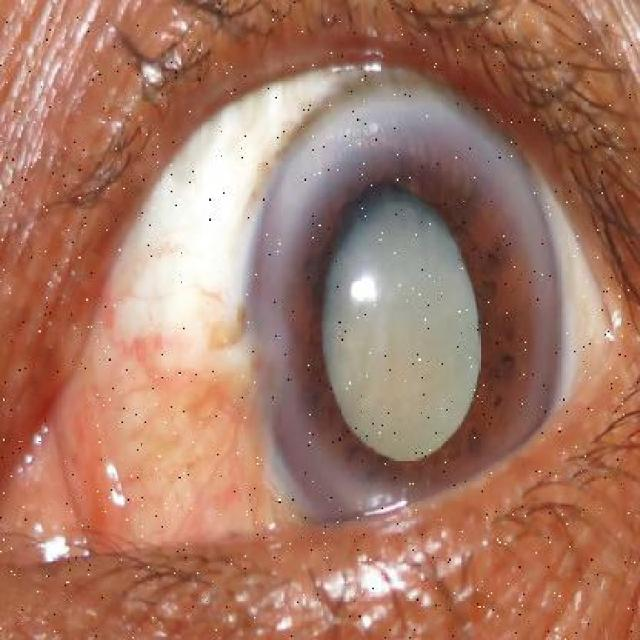Cataract: (213, 45, 582, 578)
